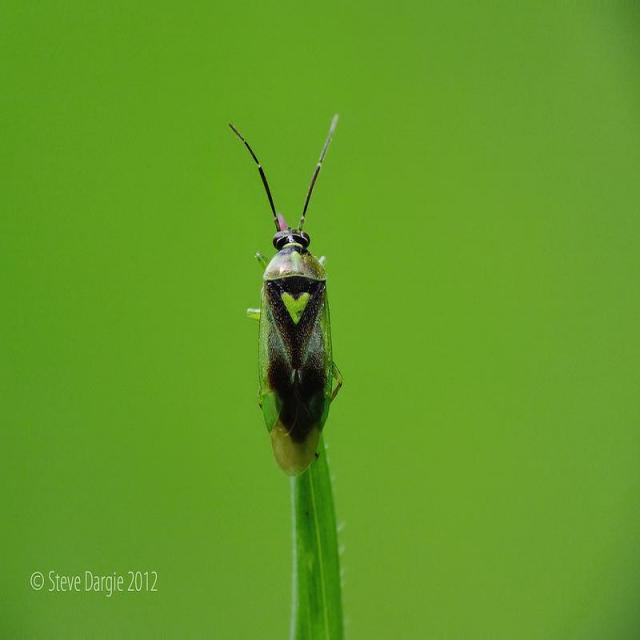Miridae-Adult-: (224, 109, 355, 482)
